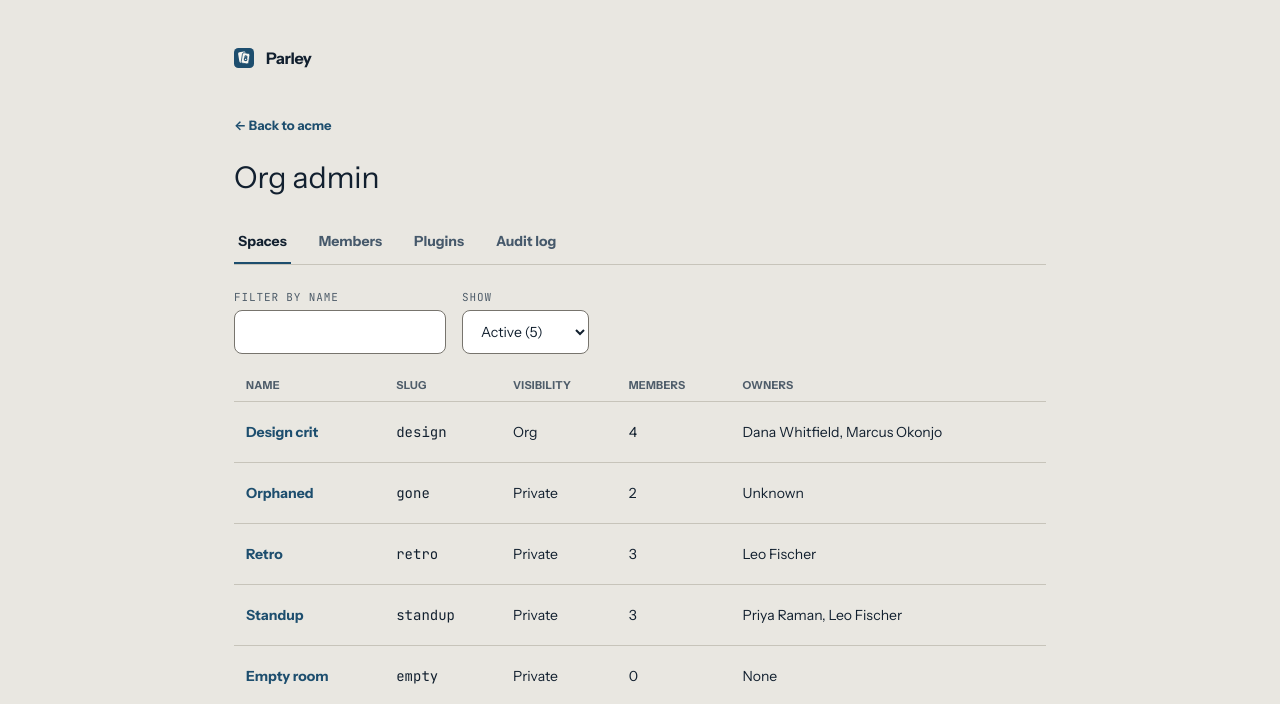
org admin hub › space panel › shows the current visibility and says making private is one-way for custody
This screenshot has width=1280, height=704.
Click the button named "Manage Design crit" at (282, 432), box [246, 410, 318, 454]
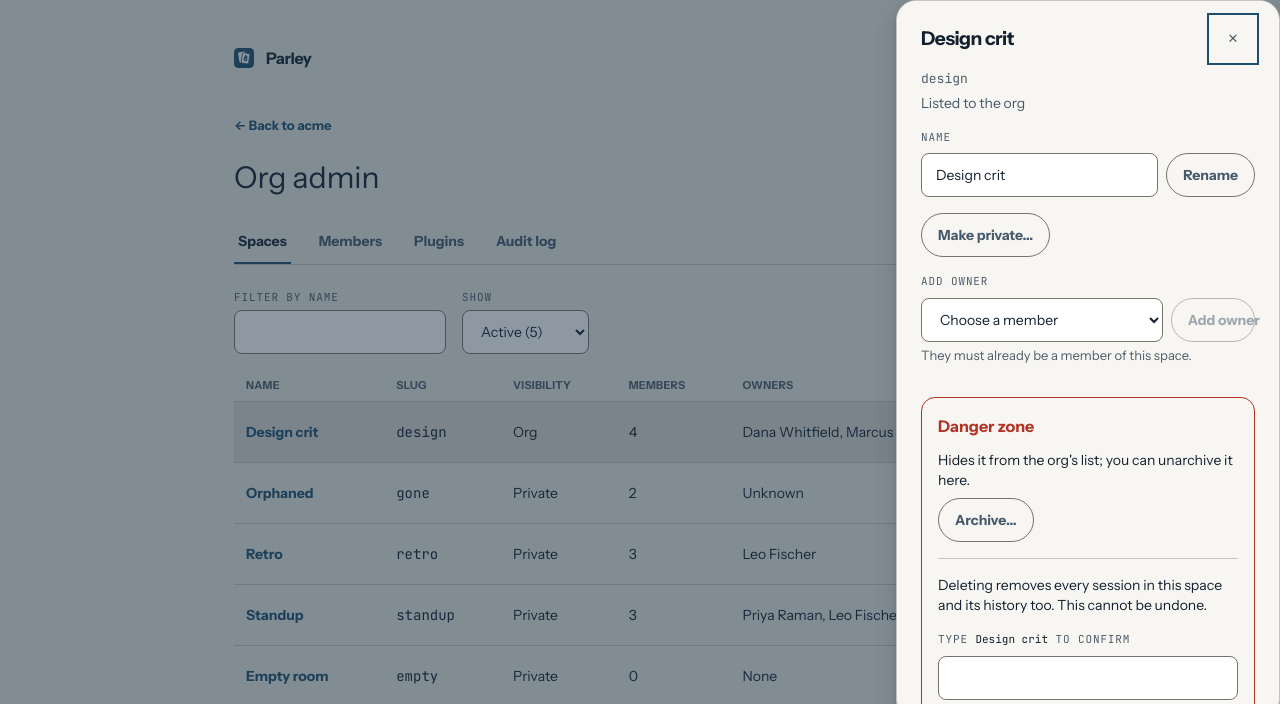
Check: the text "Listed to the org" is shown, box [921, 94, 1025, 112]
Click the button "Make private…" at (986, 235), box [921, 213, 1050, 257]
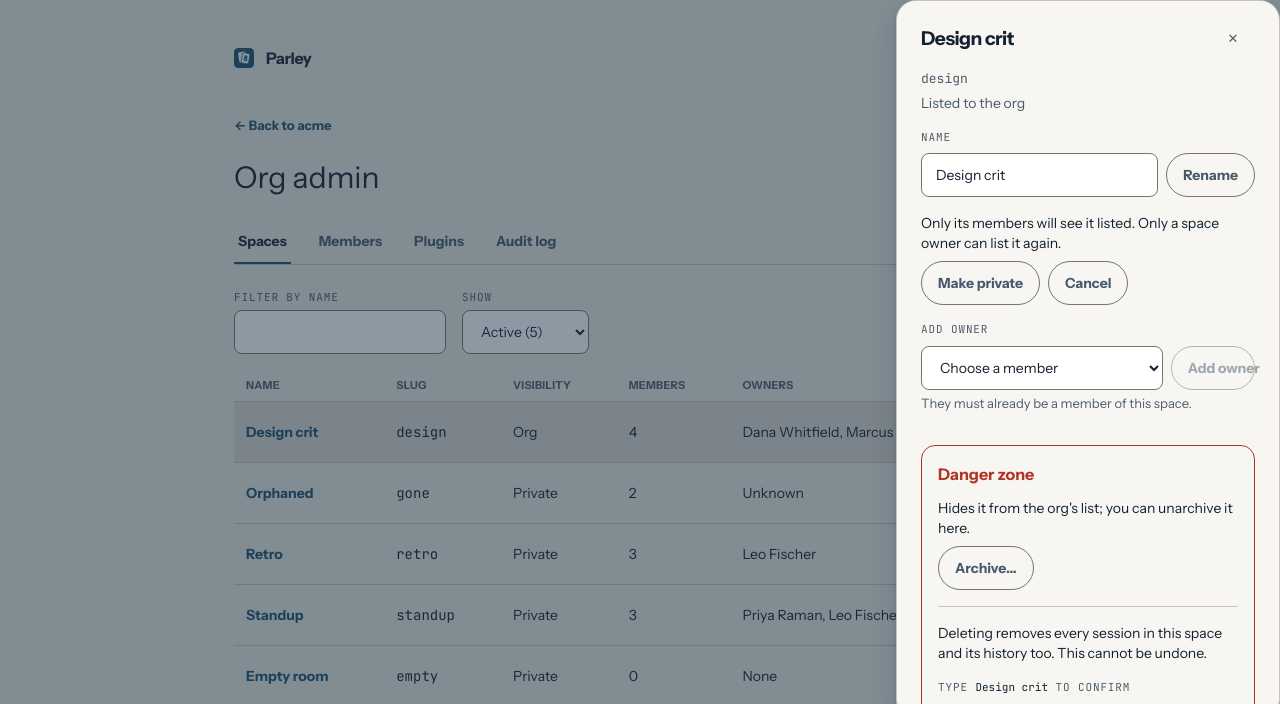
Check: the text "Only a space owner can list it again" is shown, box [921, 214, 1219, 252]
